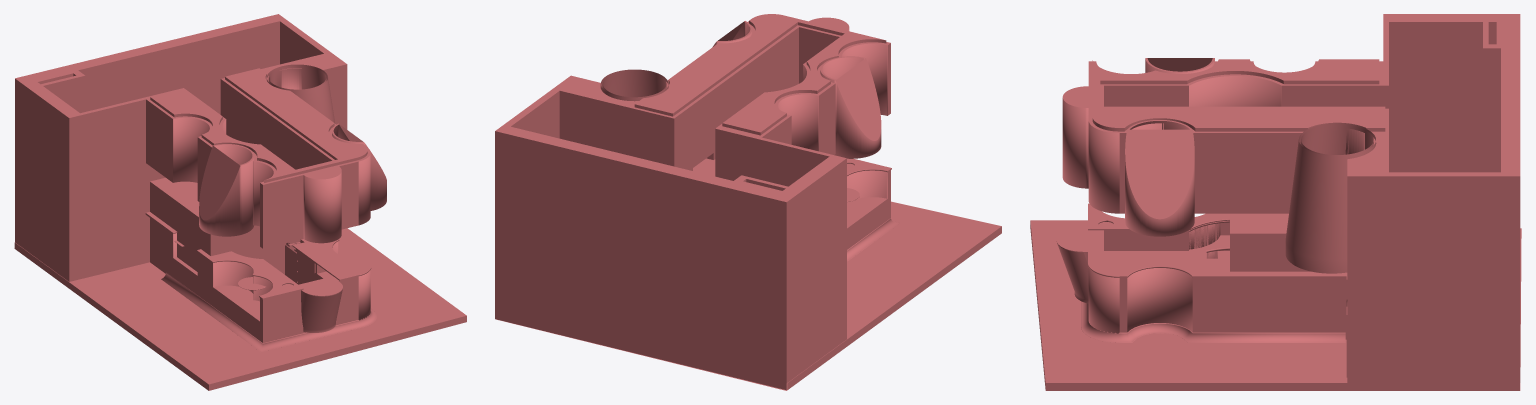
The model's file is asset.glb.
3 views of the same model, side by side, from view 1: azimuth 30°, elevation 25°; view 2: azimuth 150°, elevation 25°; view 3: azimuth 270°, elevation 25° (orthographic). The views are drawn at different scales.
Visible parts, largest first — view 1: the final model.001, Cube.001; view 2: the final model.001; view 3: the final model.001, Cube.001.
Part boxes in pixels (left/top/right/bottom): the final model.001: left=14, top=14, right=466, bottom=390; Cube.001: left=150, top=177, right=286, bottom=274; the final model.001: left=495, top=14, right=1001, bottom=390; the final model.001: left=1030, top=14, right=1521, bottom=390; Cube.001: left=1230, top=213, right=1310, bottom=271.
Bounding box in the file's own units: 4.98 × 3.12 × 6.36.
